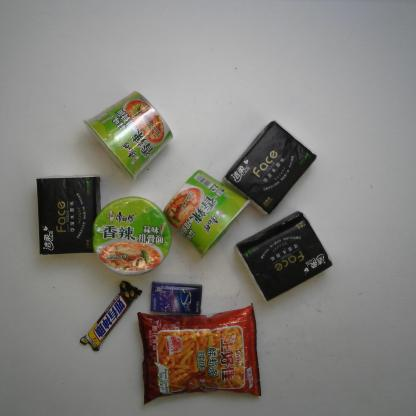Chocolate: (78, 279, 144, 355)
Gum: (148, 279, 205, 318)
Instant Noodles: (83, 86, 177, 184), (162, 164, 253, 257), (92, 193, 174, 278)
Puffed Food: (134, 300, 264, 407)
Tissue: (219, 117, 320, 218), (232, 207, 334, 306), (33, 174, 104, 260)
